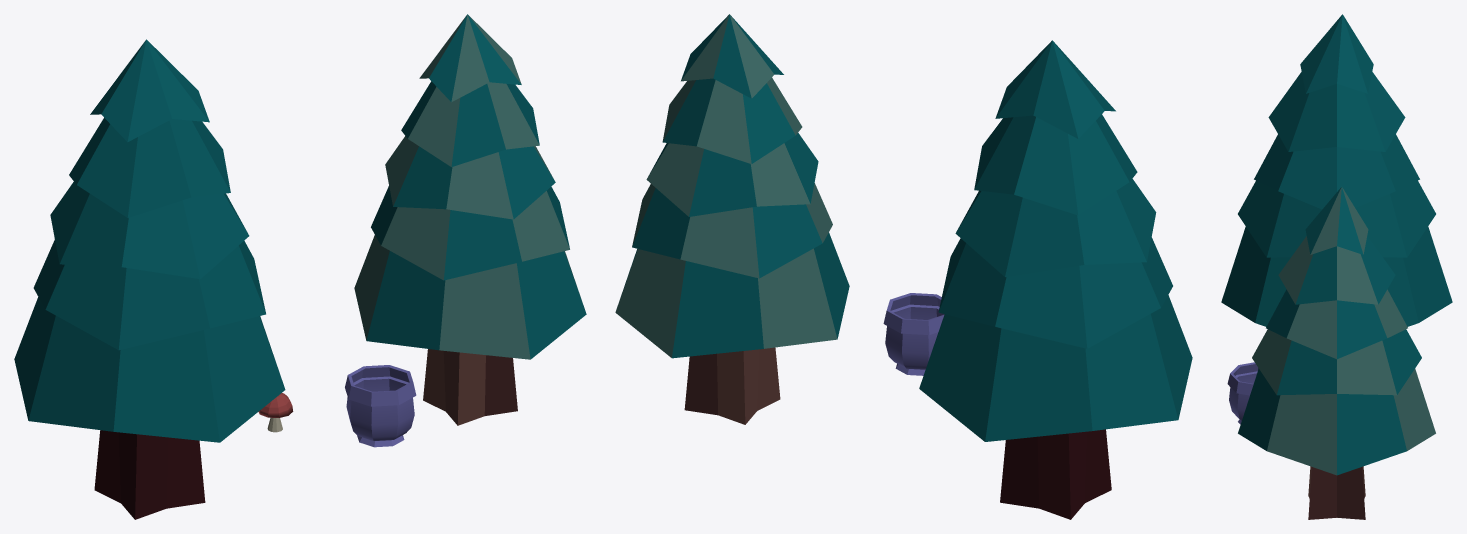
Rendered from shroom.fbx.
3 renders of one model, left to right at view 1: azimuth 30°, elevation 25°; view 2: azimuth 150°, elevation 25°; view 3: azimuth 270°, elevation 25°, orthographic. The views are drawn at different scales.
Parts seen in each view (by area): view 1: tree, tree1, cauldron, shroom; view 2: tree, tree1, cauldron; view 3: tree1, tree, cauldron.
Boxes of the visible parts, x1,y1,x2,y2 form: tree: (14, 39, 285, 519); tree1: (354, 14, 586, 425); cauldron: (345, 365, 416, 447); shroom: (258, 393, 293, 432); tree: (919, 40, 1192, 519); tree1: (615, 14, 849, 424); cauldron: (883, 293, 944, 375); tree1: (1238, 186, 1435, 519); tree: (1221, 14, 1452, 326); cauldron: (1227, 362, 1258, 424).
Bounding box in the file's own units: 175 × 139 × 77.83.
